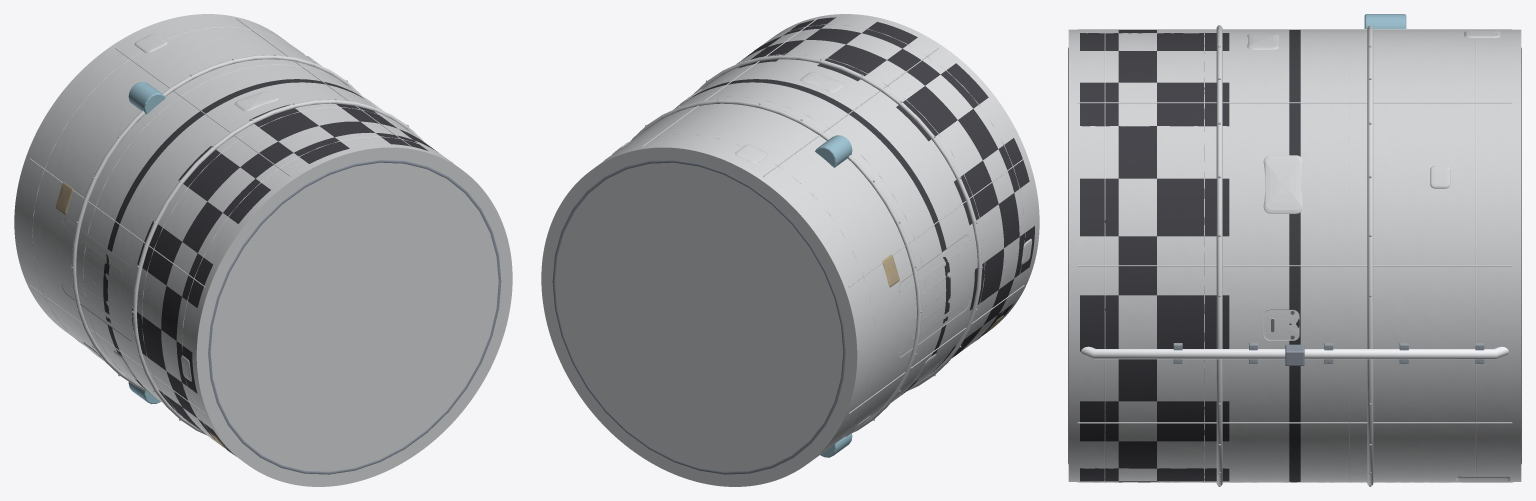
Rendered from tank-combat-main.glb.
3 views of the same model, side by side, from view 1: azimuth 30°, elevation 25°; view 2: azimuth 150°, elevation 25°; view 3: azimuth 270°, elevation 25° (orthographic). The views are drawn at different scales.
Parts seen in each view (by area): view 1: tank_hull, tank_surface_panels, tank_end_rim_1.0, tank-band.001, tank-band, copv_bottle_1.0; view 2: tank_hull, tank_surface_panels, tank_end_rim_-1.0, tank-band.001, tank-band, copv_bottle_1.0; view 3: tank_hull, tank_surface_panels, cryo_feedline, tank-band, tank-band.001, tank_circumferential_seam_3, tank_longitudinal_seam_7, tank_longitudinal_seam_0, tank_longitudinal_seam_1, tank_circumferential_seam_0, copv_bottle_1.0.
Boxes of the visible parts, x1=… form: tank_hull: x1=14, y1=14, x2=512, y2=486; tank_surface_panels: x1=56, y1=34, x2=382, y2=448; tank_end_rim_1.0: x1=208, y1=160, x2=501, y2=474; tank-band.001: x1=132, y1=99, x2=423, y2=435; tank-band: x1=71, y1=55, x2=361, y2=389; copv_bottle_1.0: x1=128, y1=82, x2=165, y2=114; tank_hull: x1=541, y1=14, x2=1039, y2=486; tank_surface_panels: x1=612, y1=72, x2=1032, y2=436; tank_end_rim_-1.0: x1=552, y1=160, x2=845, y2=474; tank-band.001: x1=694, y1=55, x2=982, y2=390; tank-band: x1=630, y1=99, x2=921, y2=433; copv_bottle_1.0: x1=815, y1=135, x2=852, y2=167; tank_hull: x1=1068, y1=29, x2=1521, y2=482; tank_surface_panels: x1=1247, y1=30, x2=1510, y2=482; cryo_feedline: x1=1081, y1=346, x2=1508, y2=359; tank-band: x1=1367, y1=25, x2=1373, y2=485; tank-band.001: x1=1216, y1=25, x2=1222, y2=485; tank_circumferential_seam_3: x1=1104, y1=29, x2=1105, y2=481; tank_longitudinal_seam_7: x1=1077, y1=422, x2=1512, y2=423; tank_longitudinal_seam_0: x1=1077, y1=265, x2=1512, y2=266; tank_longitudinal_seam_1: x1=1077, y1=102, x2=1512, y2=103; tank_circumferential_seam_0: x1=1475, y1=29, x2=1476, y2=476; copv_bottle_1.0: x1=1364, y1=14, x2=1406, y2=28.
Size of the model in its own units: 6.32 by 6.15 by 6.02.
